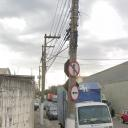NoSeguir: (68, 61, 80, 77)
